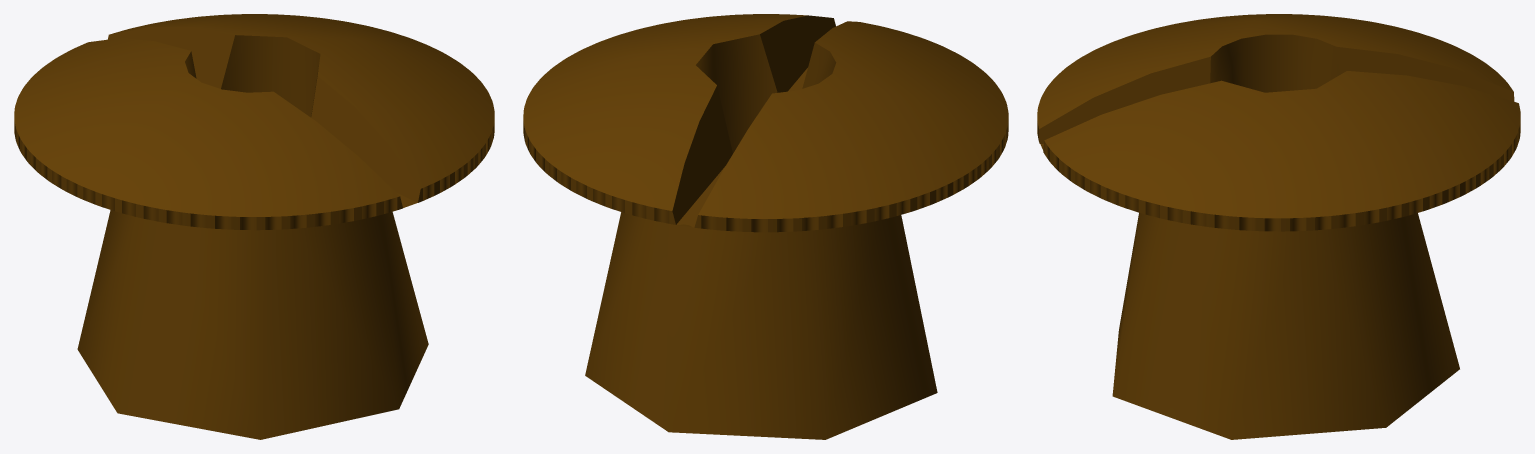
The model's file is Vis Champignon_Marteaux_instance_3.obj.
3 views of the same model, side by side, from view 1: azimuth 30°, elevation 25°; view 2: azimuth 150°, elevation 25°; view 3: azimuth 270°, elevation 25° (orthographic).
Visible parts, largest first — view 1: Face_62, Face_1, Face_65, Face_66, Face_128, Face_131; view 2: Face_62, Face_1, Face_65, Face_66, Face_131, Face_128, Face_132; view 3: Face_62, Face_65, Face_1, Face_66, Face_129, Face_130.
Part boxes in pixels (x1,y1,x2,y2): Face_62: (77, 210, 428, 439); Face_1: (14, 38, 399, 216); Face_65: (110, 14, 494, 188); Face_66: (185, 35, 320, 117); Face_128: (311, 76, 420, 202); Face_131: (108, 27, 234, 88); Face_62: (585, 212, 937, 439); Face_1: (698, 21, 1008, 218); Face_65: (523, 14, 807, 210); Face_66: (696, 34, 836, 153); Face_131: (672, 85, 732, 224); Face_128: (760, 15, 835, 92); Face_132: (676, 166, 725, 227); Face_62: (1112, 212, 1459, 439); Face_65: (1044, 71, 1520, 218); Face_1: (1037, 14, 1513, 128); Face_66: (1210, 34, 1339, 92); Face_129: (1039, 56, 1210, 143); Face_130: (1336, 46, 1514, 101).
Bounding box in the file's own units: 0.01 × 0.0069 × 0.01.
